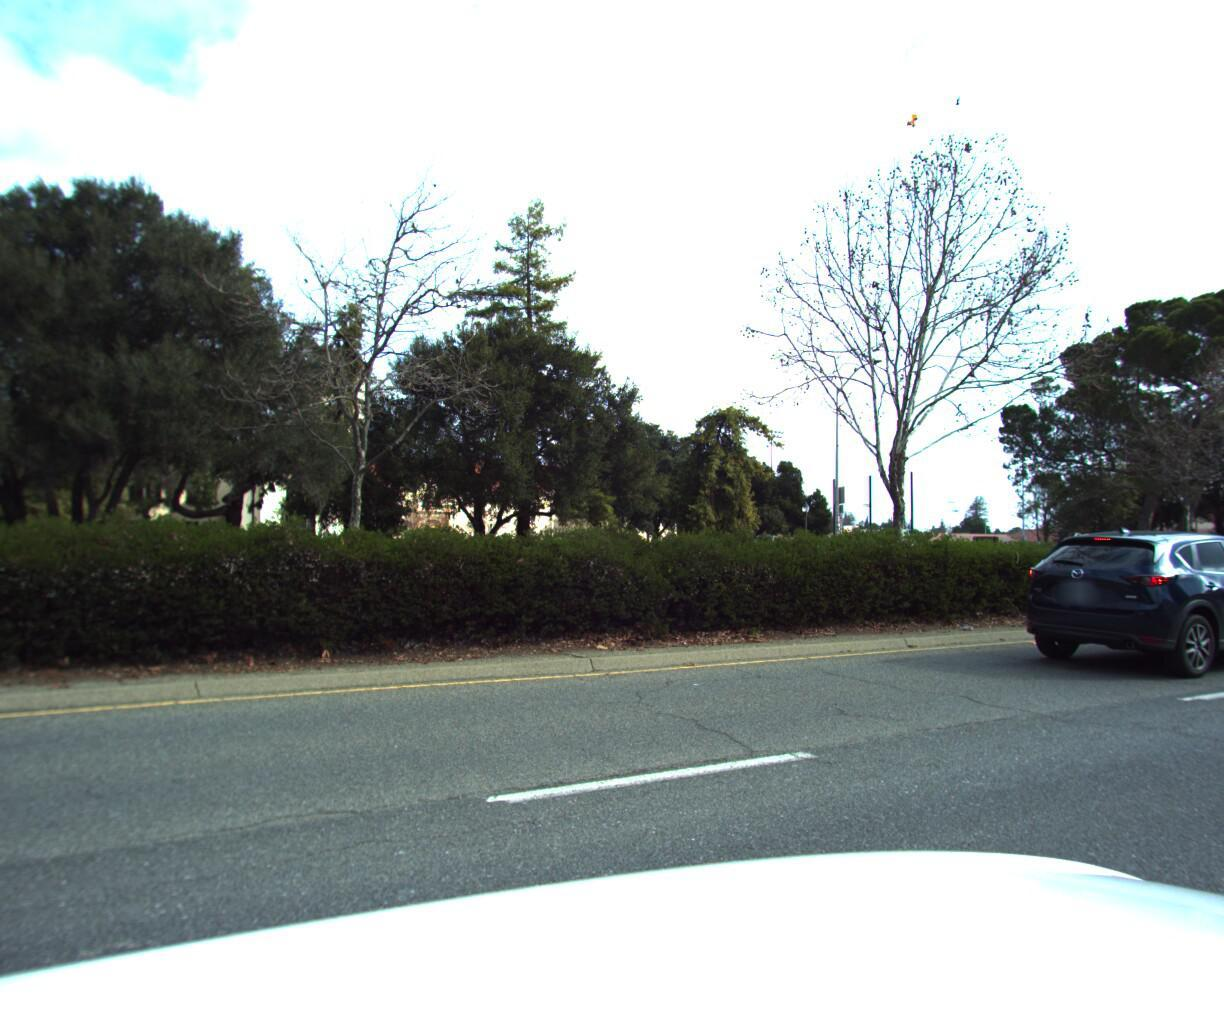car: (989, 519, 1224, 688)
